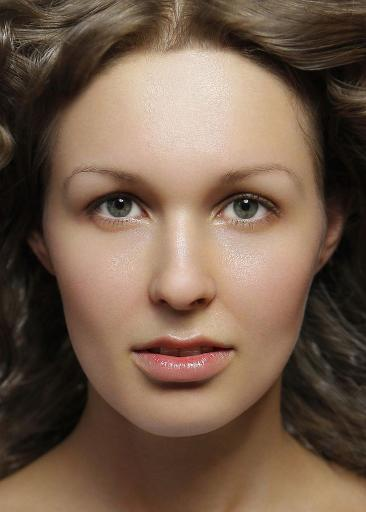left_eye: (213, 194, 283, 229)
left_lip_corner: (224, 339, 241, 360)
right_eye: (83, 192, 152, 229)
right_lip_corner: (127, 342, 143, 363)
